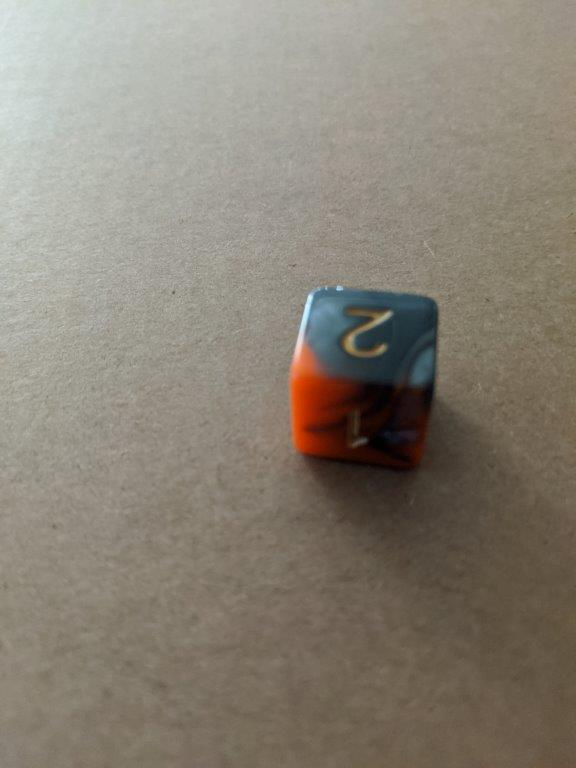d6-2: (288, 285, 442, 474)
